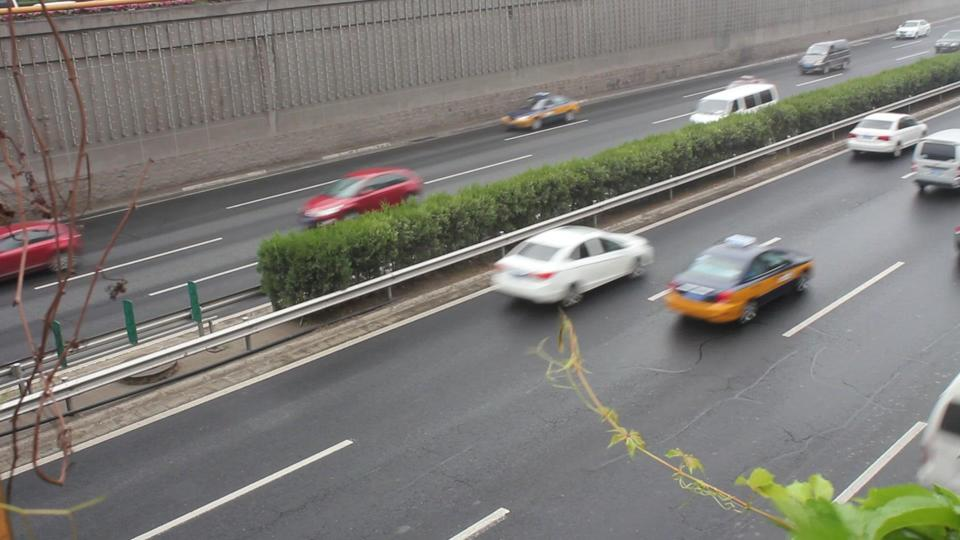Car: (666, 238, 811, 325), (489, 223, 644, 301), (301, 167, 421, 232), (1, 217, 79, 276), (845, 111, 925, 156), (503, 94, 578, 132), (708, 77, 779, 117)
Minivan: (683, 84, 779, 142), (911, 129, 960, 190)
